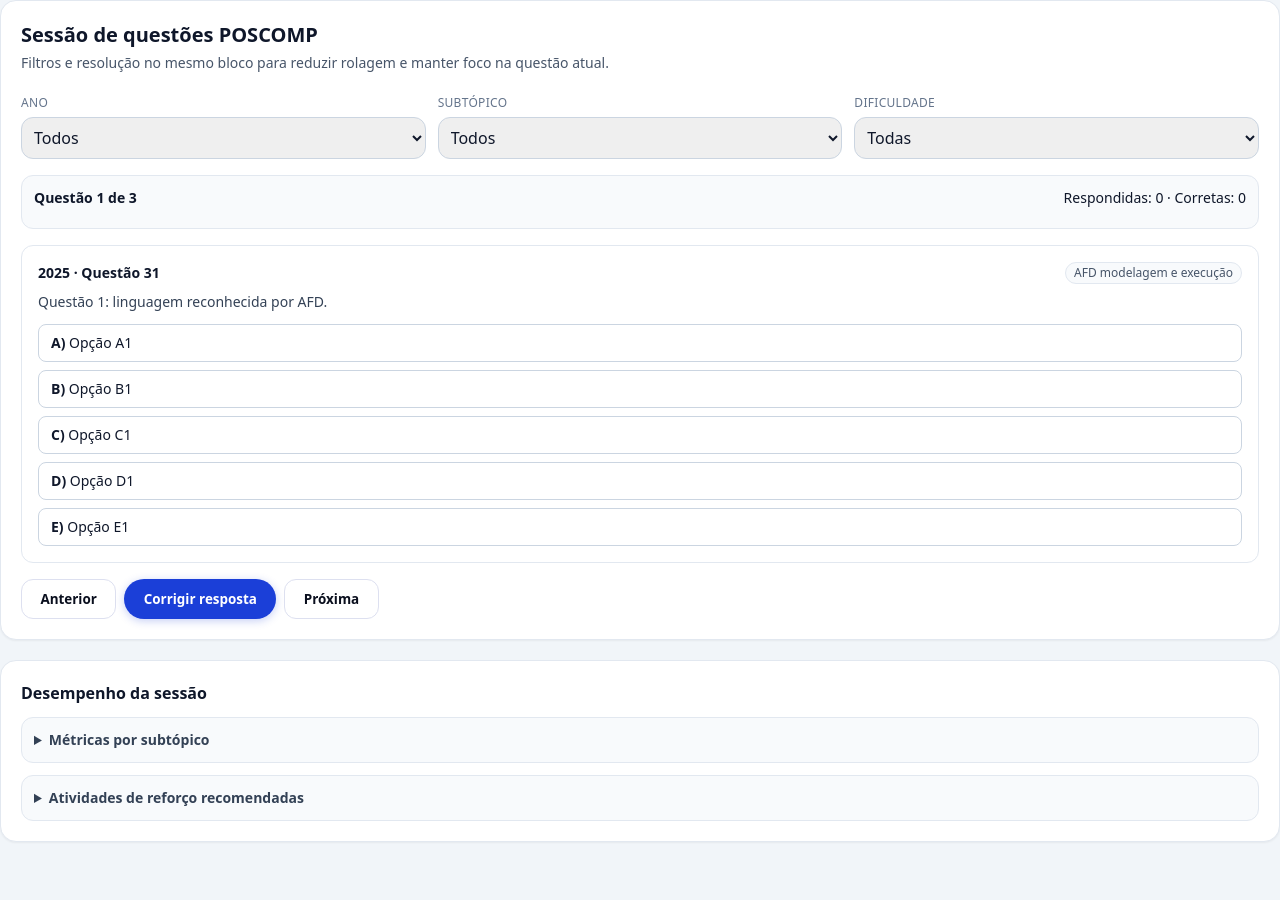
Test: QuestionsPanel UX V2 › navega em fluxo linear com botões anterior e próxima
Expected: the text "Questão 1: linguagem reconhecida por AFD." is shown, [38,292,327,311]
Click the button "Próxima".
click(331, 599)  # box [284,579,379,619]
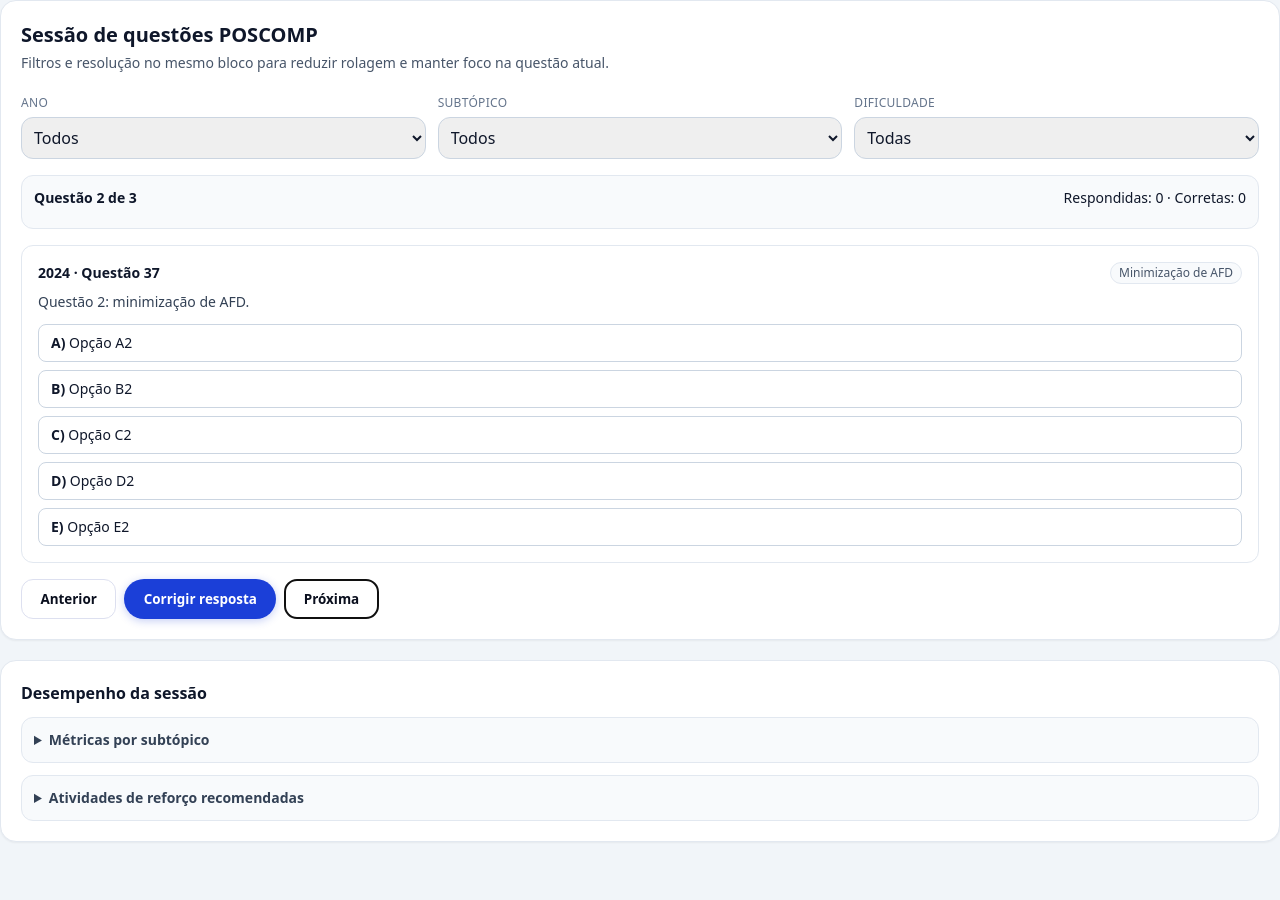
Now the text "Questão 2: minimização de AFD." is shown, box [38,292,249,311]
Click the button "Anterior".
click(69, 599)  # box [21,579,116,619]
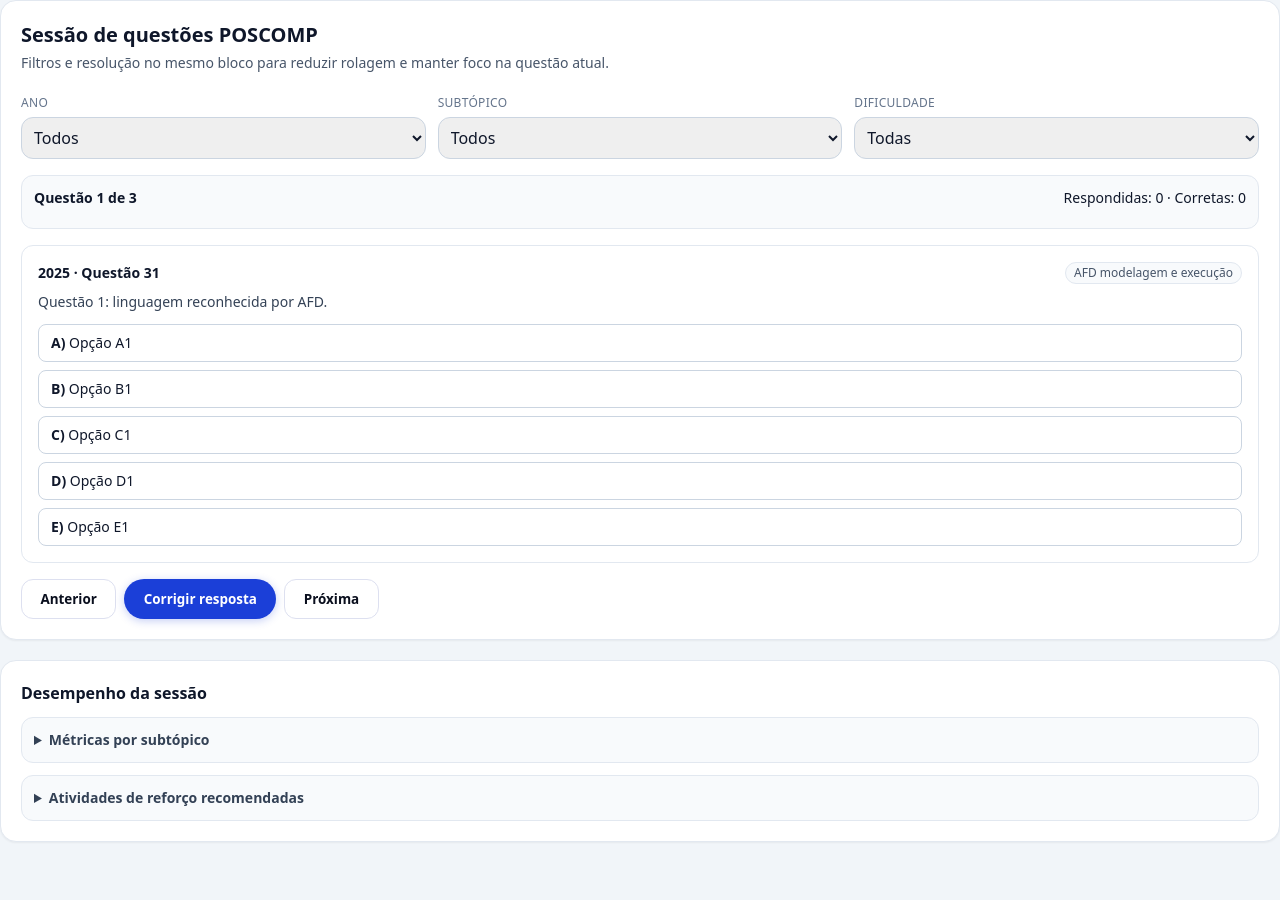
Now the text "Questão 1: linguagem reconhecida por AFD." is shown, box [38,292,327,311]
